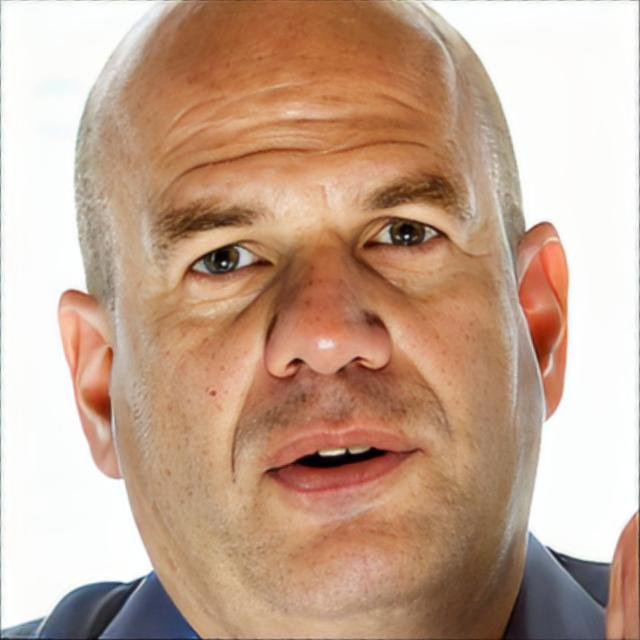surprise: (72, 0, 548, 640)
